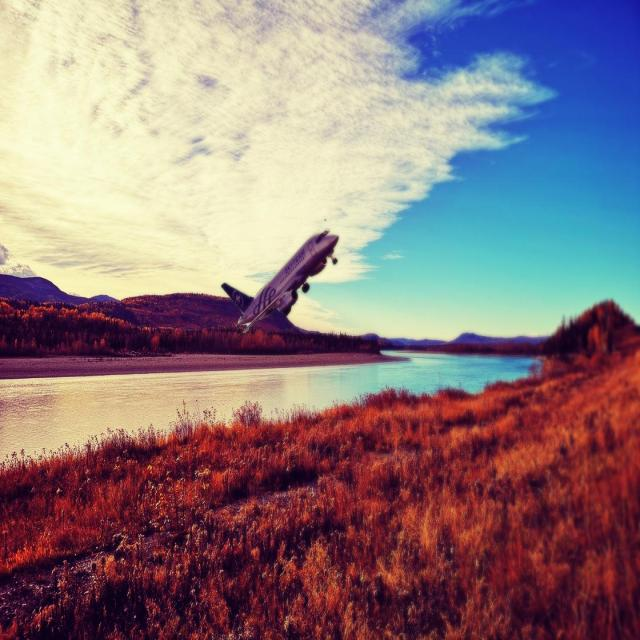airplane: (220, 229, 338, 335)
